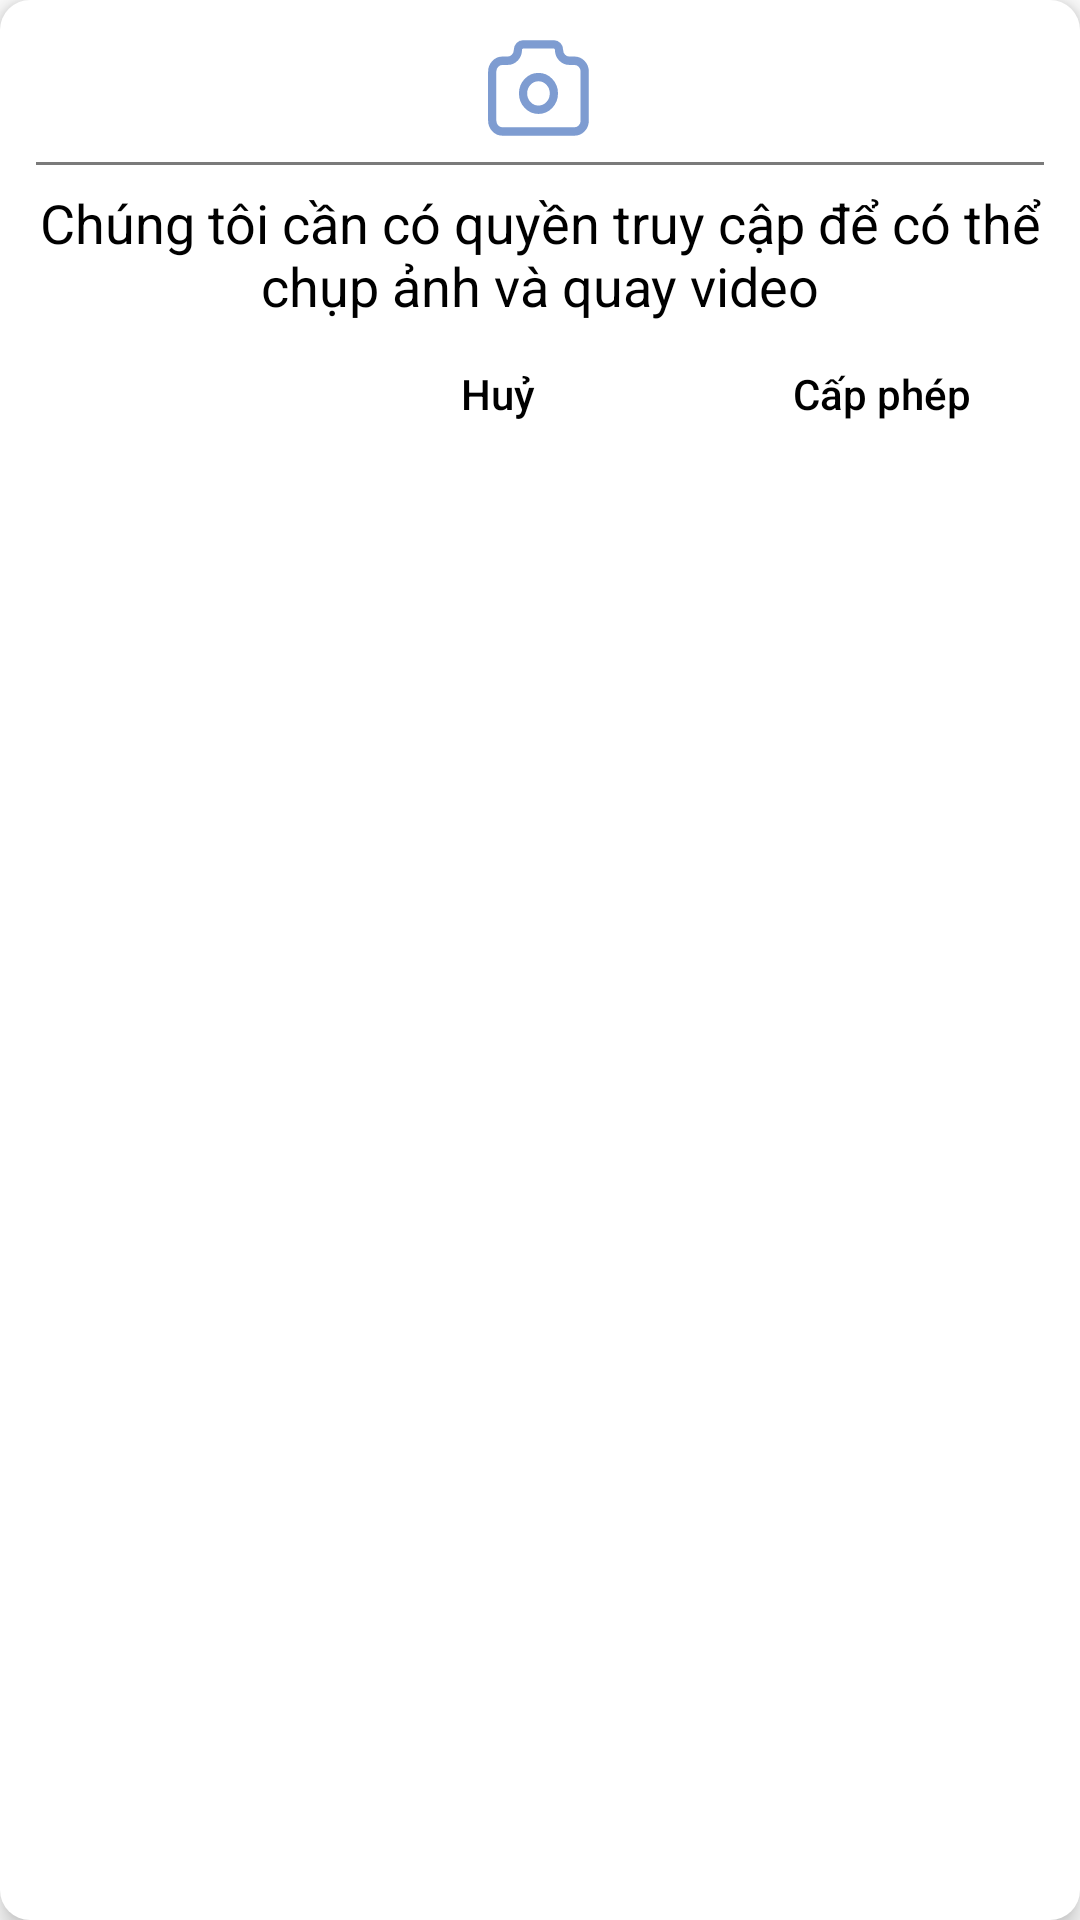

Icons on this 1080x1920 Android screen, each with its box as (x1, y1, x2, y2):
camera: (488, 40, 589, 136)
